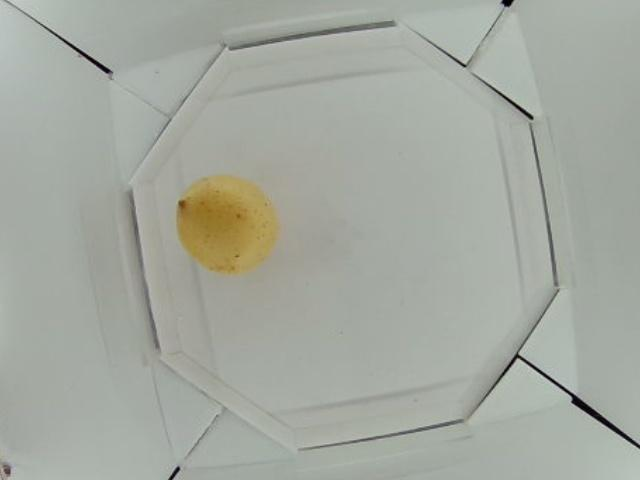Potato: (176, 174, 275, 275)
